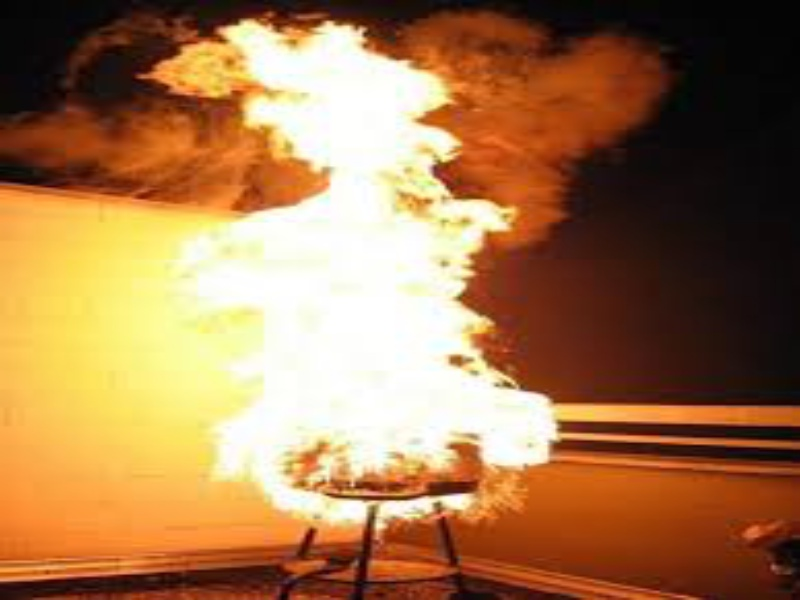fire: (192, 3, 561, 537)
